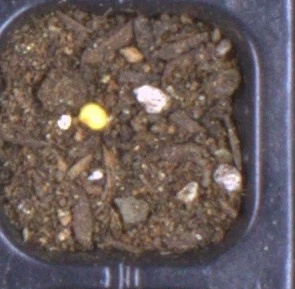chilli seed: (78, 102, 107, 130)
